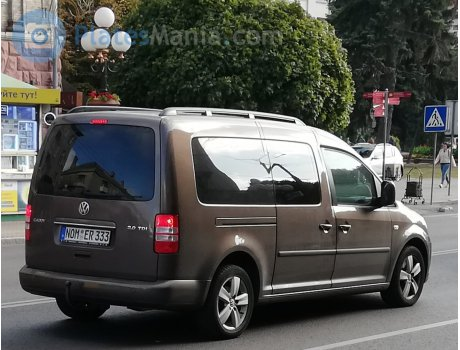License Plates: (61, 225, 107, 241)
